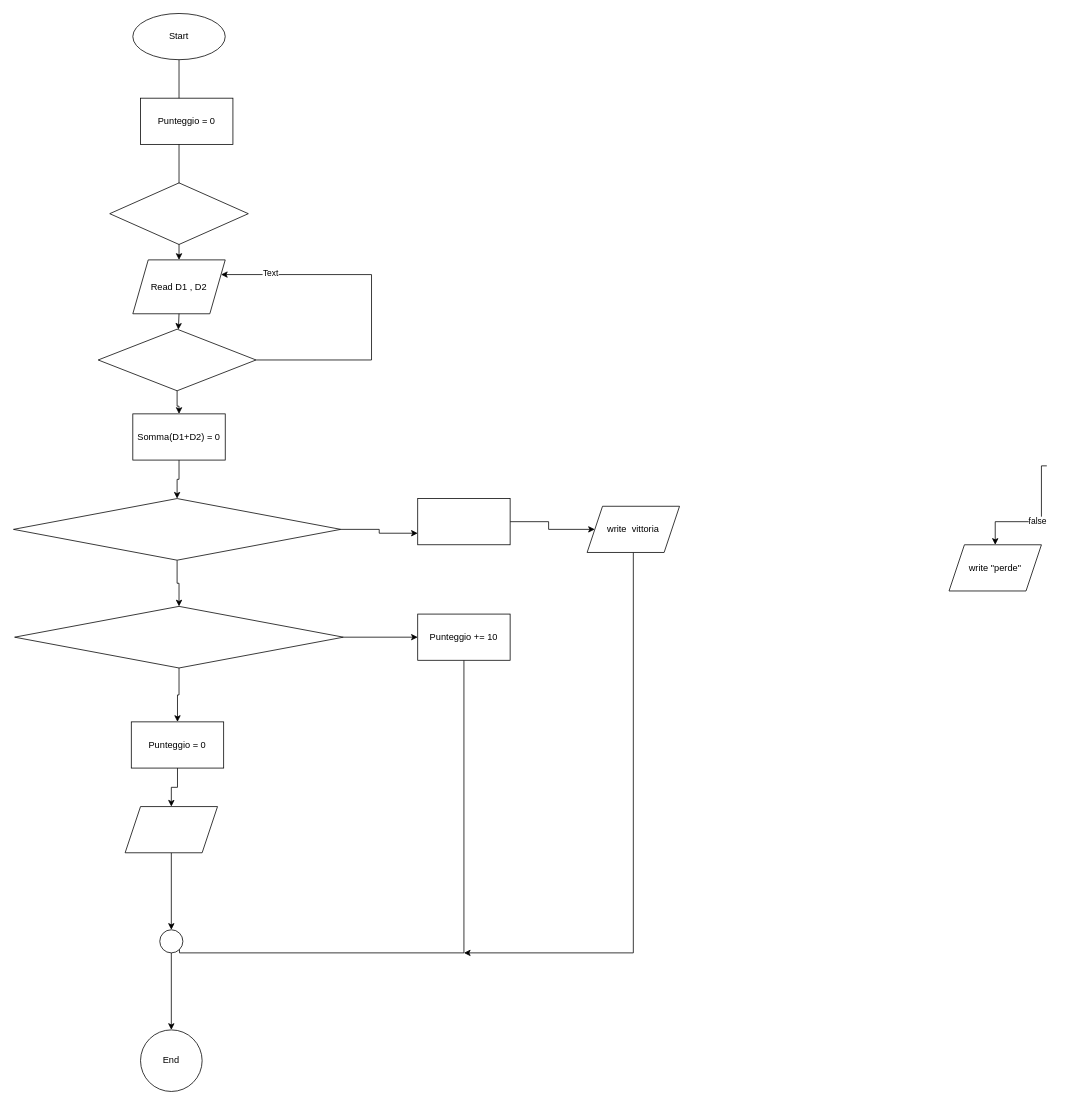
This 1066x1105 diagram has some shape labels left out. Each missing label, with the box of its shape:
(D1%2=0 and D2%2=0) and Somma >8: (13, 498, 341, 560)
D1>0 and D1<=6 D2 >0 and D2<= 6: (97, 328, 256, 391)
Punteggio += 100: (417, 498, 510, 545)
Punteggio <100: (109, 182, 248, 244)
write sconfitta: (124, 806, 218, 853)
